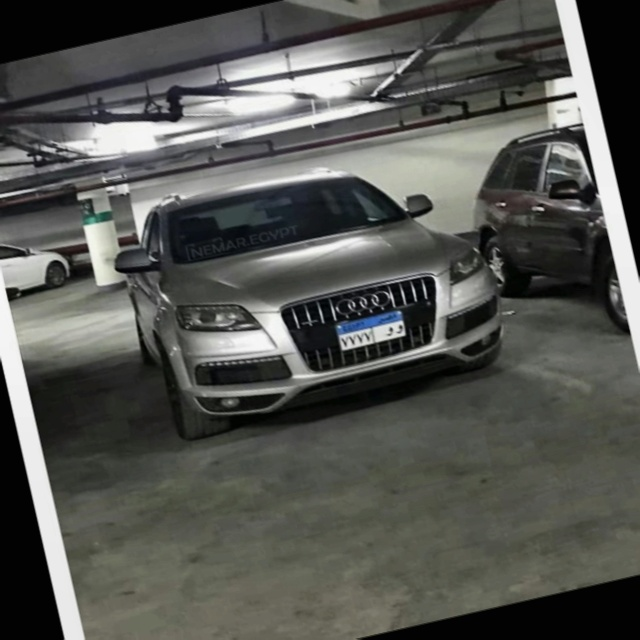License Plate: (332, 308, 409, 353)
